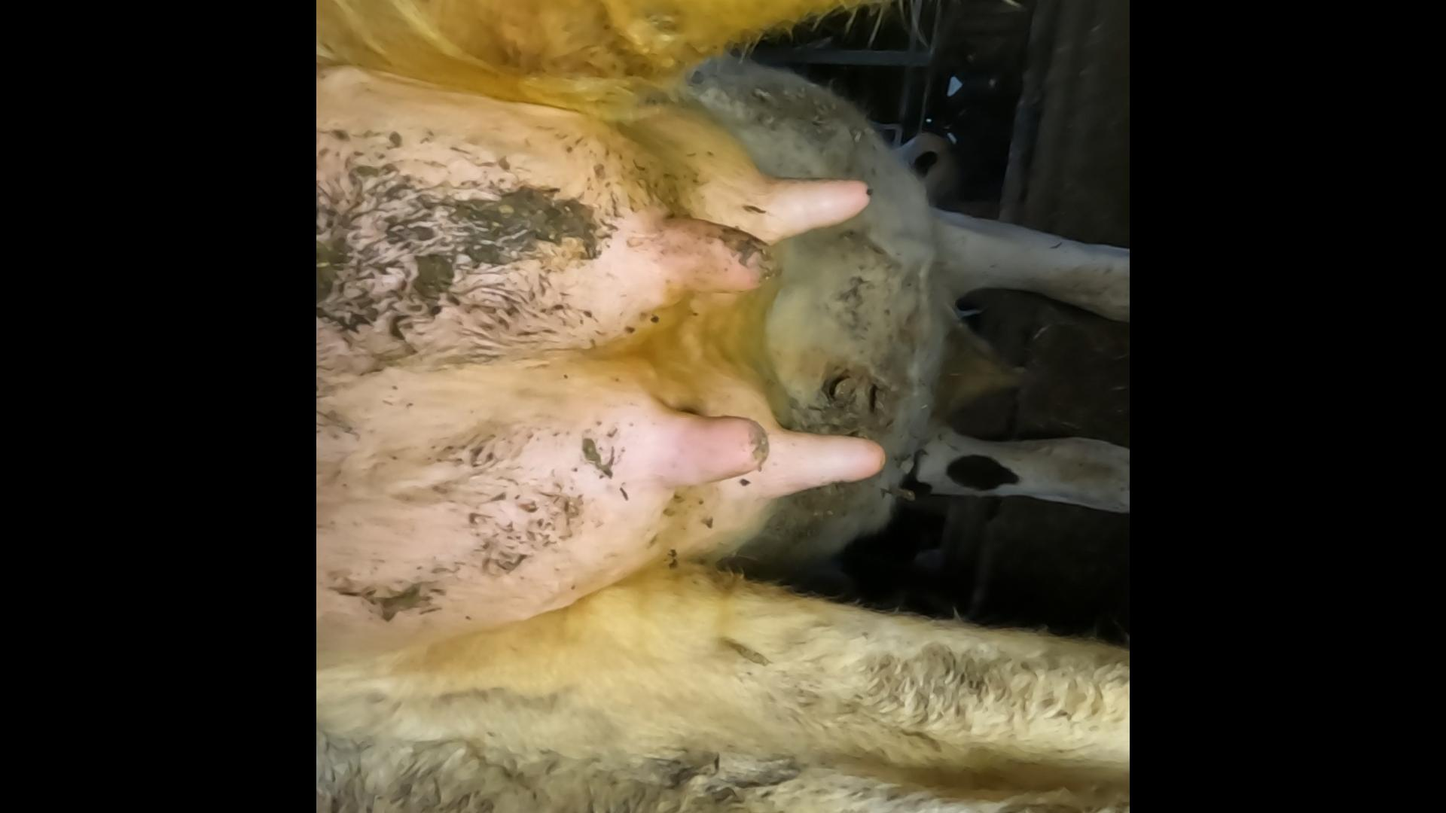Zitze: (660, 202, 778, 309), (764, 155, 896, 249), (768, 405, 891, 495), (650, 399, 772, 489)
